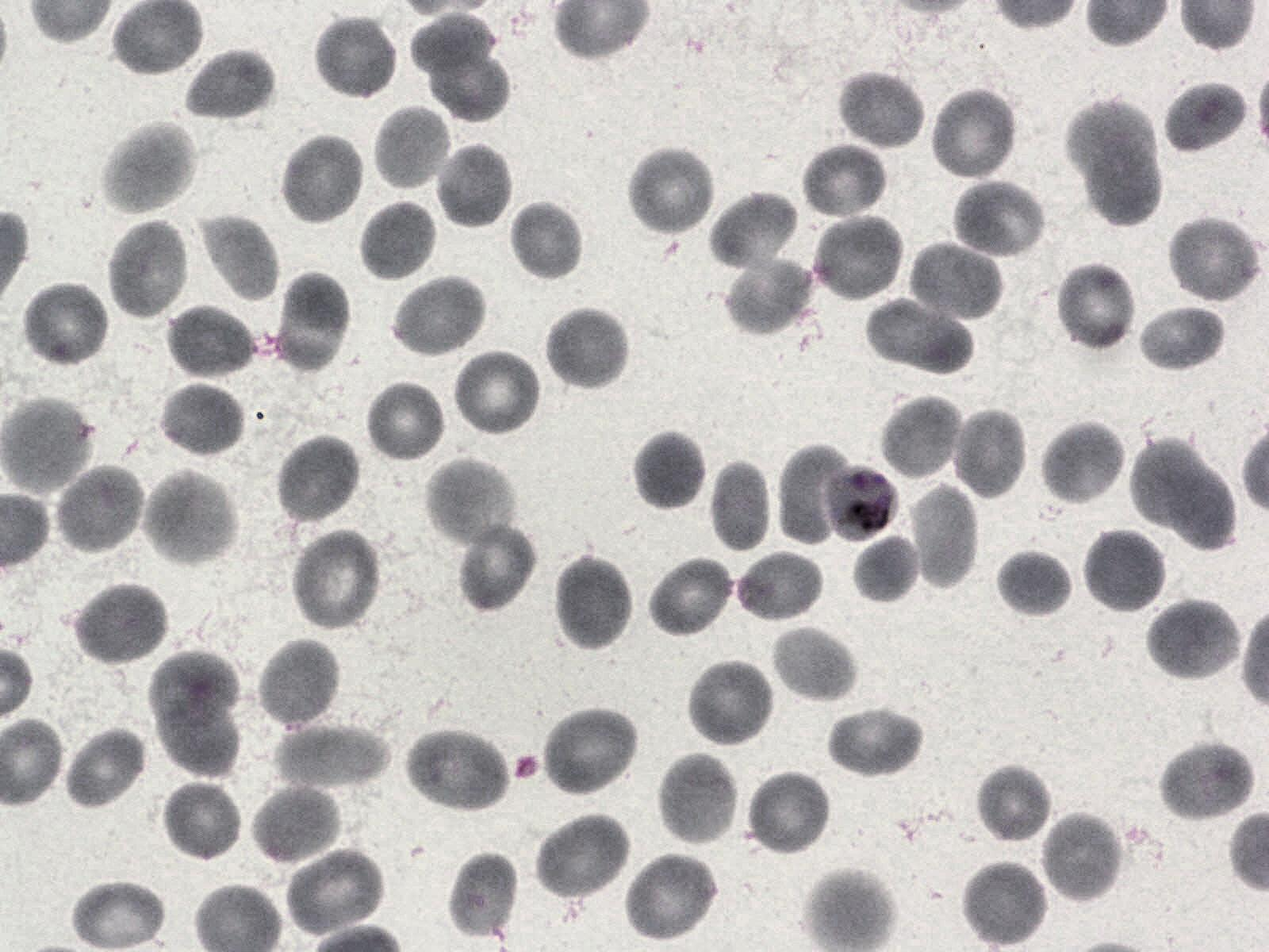Infected: (821, 464, 901, 540)
Uninfected: (1130, 436, 1237, 549), (136, 471, 234, 572), (282, 845, 387, 938), (289, 528, 383, 630), (857, 298, 978, 376), (539, 704, 639, 797), (52, 460, 148, 555), (1165, 212, 1263, 305), (407, 727, 511, 814), (389, 272, 490, 361), (623, 849, 717, 943), (534, 810, 630, 901), (1145, 595, 1242, 685), (71, 579, 171, 666), (106, 221, 191, 323), (449, 346, 542, 439), (627, 143, 719, 237), (810, 212, 905, 303), (929, 86, 1019, 182), (684, 656, 776, 749), (958, 858, 1049, 951), (450, 519, 539, 614), (551, 553, 634, 654), (903, 481, 982, 587), (103, 120, 197, 209), (278, 132, 366, 227), (1160, 738, 1256, 824), (1037, 809, 1122, 906), (654, 754, 740, 849), (20, 279, 110, 369), (279, 438, 366, 531), (246, 785, 344, 867), (256, 636, 342, 729), (543, 304, 631, 393), (1080, 526, 1167, 616), (312, 12, 399, 102), (646, 555, 737, 641), (948, 405, 1029, 501), (880, 393, 967, 482), (1053, 262, 1137, 354), (67, 876, 170, 951), (717, 253, 817, 329), (62, 725, 149, 812), (744, 769, 830, 857), (424, 459, 510, 547), (834, 70, 926, 152), (107, 0, 203, 78), (825, 706, 922, 782), (163, 303, 258, 380), (434, 142, 515, 232), (799, 141, 889, 222), (182, 48, 276, 125), (374, 102, 453, 193), (734, 547, 826, 625), (364, 380, 447, 466), (447, 850, 522, 945), (156, 381, 247, 459), (276, 725, 393, 784), (159, 781, 244, 862), (358, 199, 438, 285), (909, 244, 1003, 317), (776, 450, 849, 543), (953, 180, 1043, 255), (973, 762, 1053, 846), (205, 215, 278, 307), (1129, 300, 1226, 369), (631, 429, 709, 514), (1088, 138, 1164, 225), (1042, 426, 1124, 506), (507, 200, 585, 284), (766, 624, 853, 699), (1160, 80, 1248, 154), (158, 694, 238, 774), (276, 278, 347, 368), (1072, 106, 1160, 178), (711, 192, 796, 265), (851, 534, 928, 611), (428, 45, 506, 121), (151, 656, 243, 720), (995, 547, 1073, 621), (711, 459, 769, 556), (412, 15, 496, 71)
